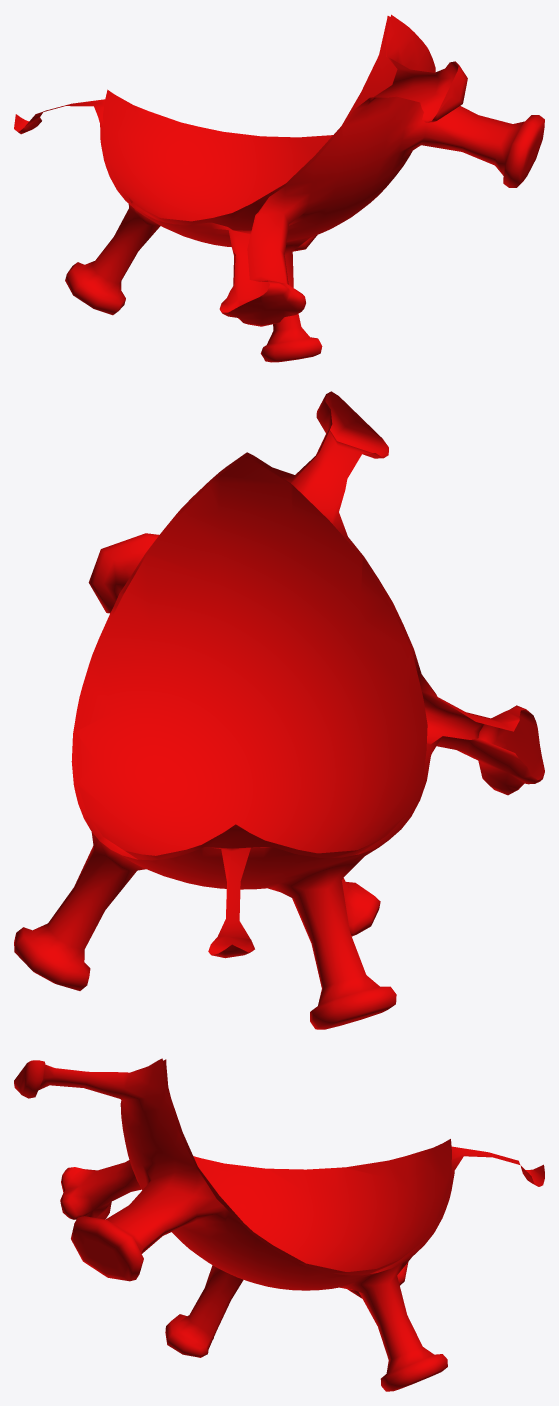
File: debris4.fbx
3 renders of one model, top to bottom at view 1: azimuth 30°, elevation 25°; view 2: azimuth 150°, elevation 25°; view 3: azimuth 270°, elevation 25°, orthographic. The views are drawn at different scales.
Parts seen in each view (by area): view 1: polySurface5; view 2: polySurface5; view 3: polySurface5.
Boxes of the visible parts, x1,y1,x2,y2 form: polySurface5: (14, 14, 544, 362); polySurface5: (14, 391, 544, 1029); polySurface5: (14, 1058, 544, 1391).
Size of the model in its own units: 2.14 by 1.95 by 2.82.
